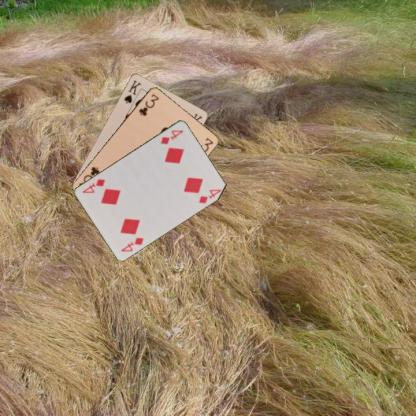3c: (136, 92, 160, 118)
4d: (158, 127, 184, 146), (118, 234, 145, 252)
Ks: (121, 77, 142, 104)
